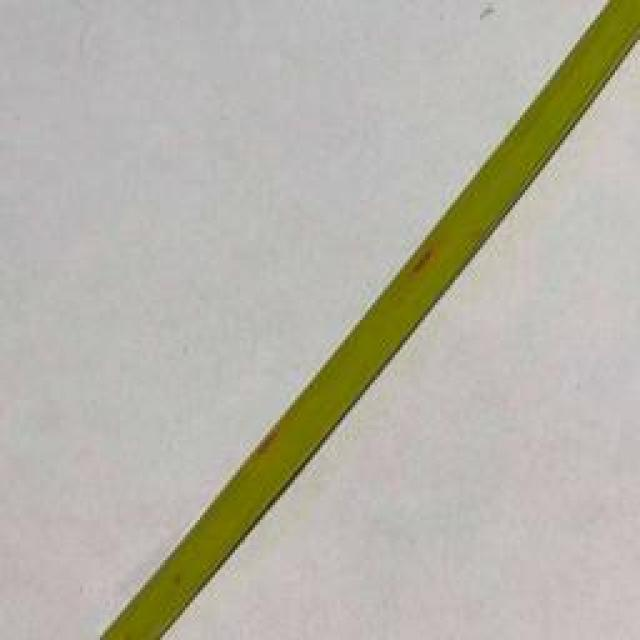Brown_Spot: (390, 226, 450, 280), (242, 404, 294, 457)
